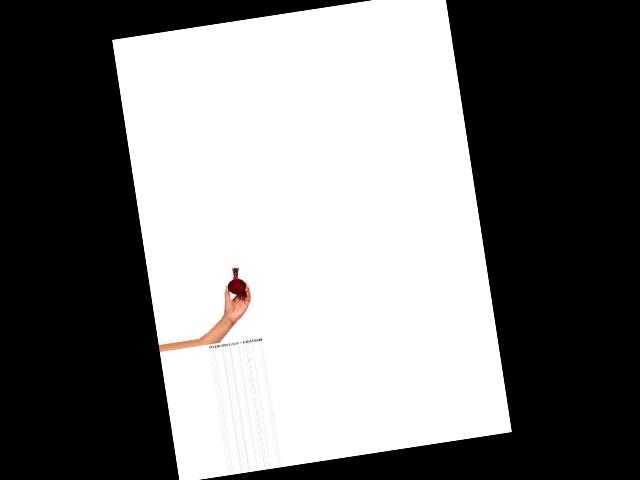beet: (225, 266, 247, 296)
